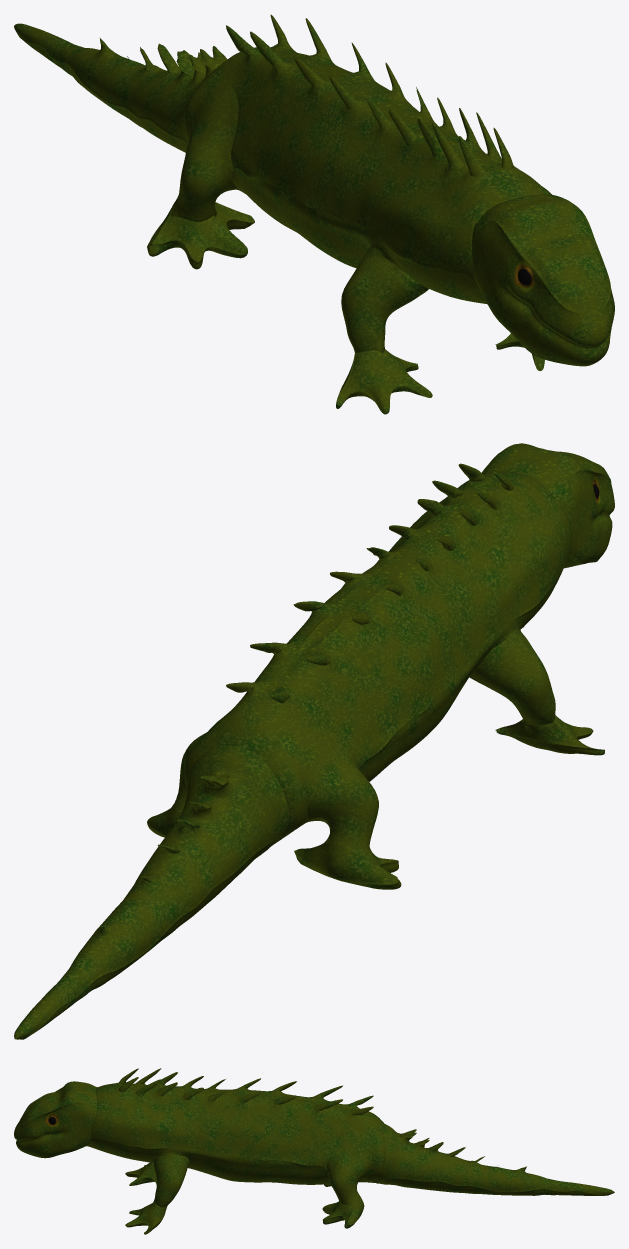
Rendered from iguana.glb.
3 renders of one model, top to bottom at view 1: azimuth 30°, elevation 25°; view 2: azimuth 150°, elevation 25°; view 3: azimuth 270°, elevation 25°, orthographic. The views are drawn at different scales.
Visible parts, largest first — view 1: CL_cola; view 2: CL_cola; view 3: CL_cola.
Boxes of the visible parts, left/top/right/bottom form: CL_cola: left=14, top=14, right=614, bottom=414; CL_cola: left=14, top=443, right=614, bottom=1039; CL_cola: left=14, top=1068, right=614, bottom=1234.
Bounding box in the file's own units: 3.73 × 3.32 × 14.01.
1 material, 1 textured.
